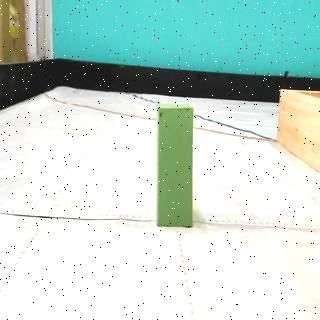greenbox: (154, 104, 197, 228)
